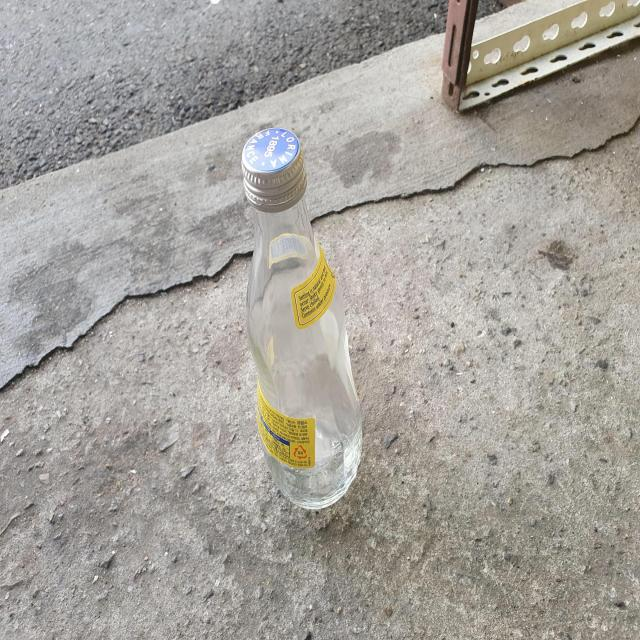glass: (241, 127, 362, 510)
